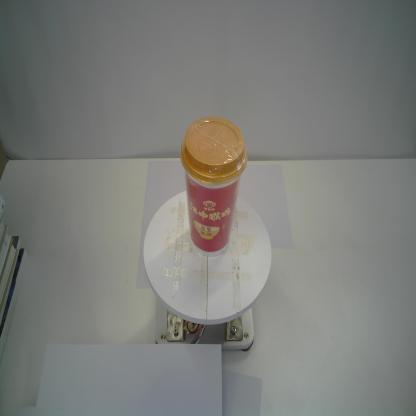Instant Drink: (180, 116, 248, 258)
